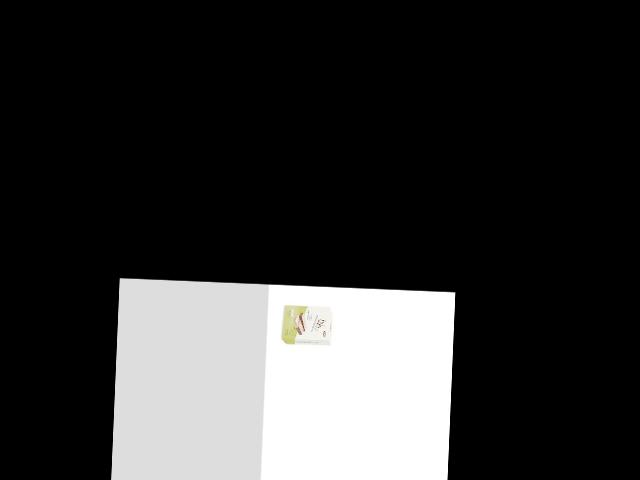chocolate: (279, 300, 334, 348)
